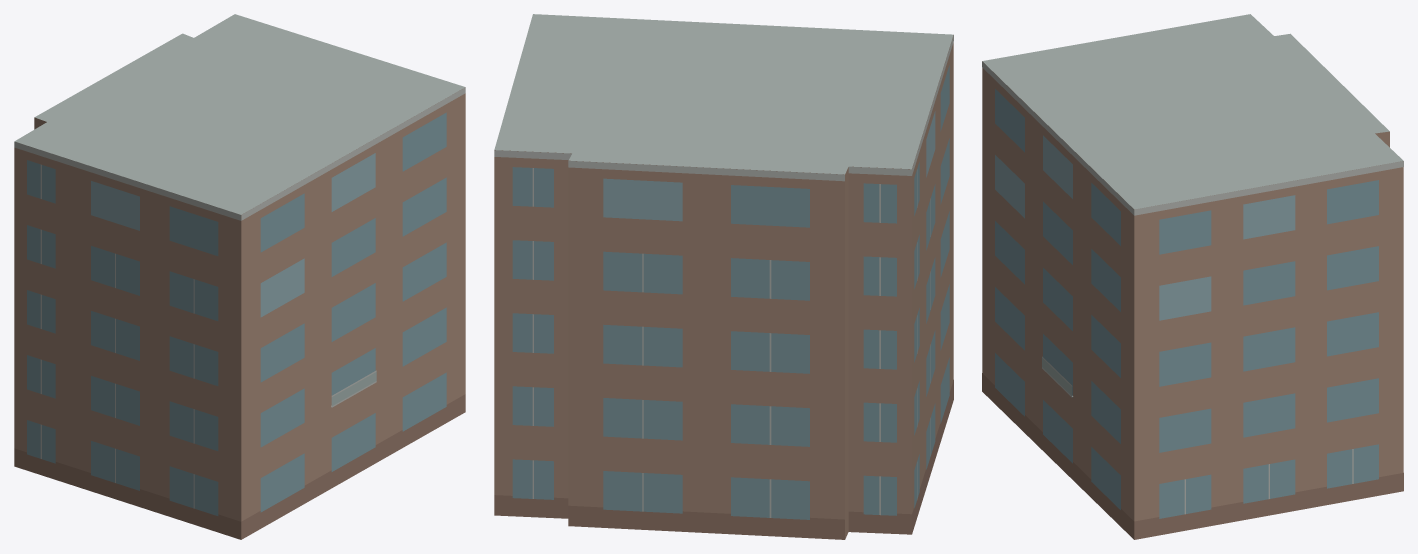
The model's file is survey-upis-33023467.glb.
3 renders of one model, left to right at view 1: azimuth 30°, elevation 25°; view 2: azimuth 150°, elevation 25°; view 3: azimuth 270°, elevation 25°, orthographic. The views are drawn at different scales.
Parts seen in each view (by area): view 1: survey-upis-33023467.tmp; view 2: survey-upis-33023467.tmp; view 3: survey-upis-33023467.tmp.
Part boxes in pixels (left/top/right/bottom): survey-upis-33023467.tmp: left=14, top=14, right=465, bottom=539; survey-upis-33023467.tmp: left=494, top=14, right=953, bottom=539; survey-upis-33023467.tmp: left=982, top=14, right=1403, bottom=539.
Size of the model in its own units: 16.64 by 13.1 by 15.16.
